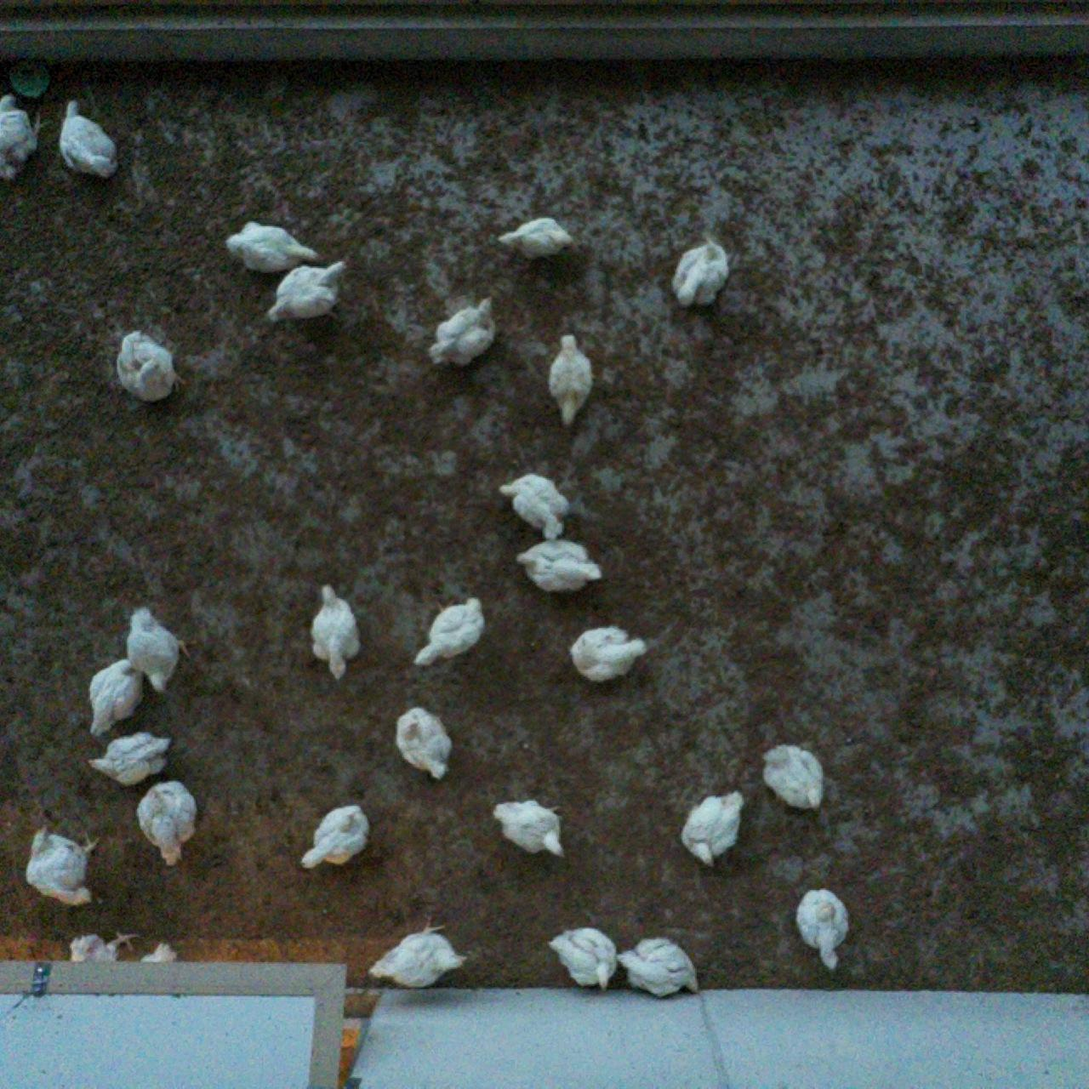chicken: (366, 911, 470, 990), (122, 602, 195, 697), (226, 213, 325, 283), (23, 819, 100, 908), (133, 774, 203, 871), (562, 617, 653, 688), (611, 932, 705, 999), (423, 292, 503, 370), (677, 788, 748, 875), (495, 468, 576, 544), (264, 256, 351, 326), (411, 592, 490, 669), (514, 532, 604, 598), (307, 581, 365, 681), (111, 327, 188, 402), (756, 740, 830, 818), (791, 886, 854, 976), (84, 728, 175, 788), (84, 653, 147, 739), (54, 99, 120, 180), (663, 238, 736, 311), (295, 801, 371, 871), (544, 332, 598, 429), (548, 925, 621, 993), (489, 797, 566, 860), (391, 706, 452, 783), (0, 91, 47, 186), (494, 216, 580, 263), (66, 924, 135, 966), (141, 938, 181, 968)
